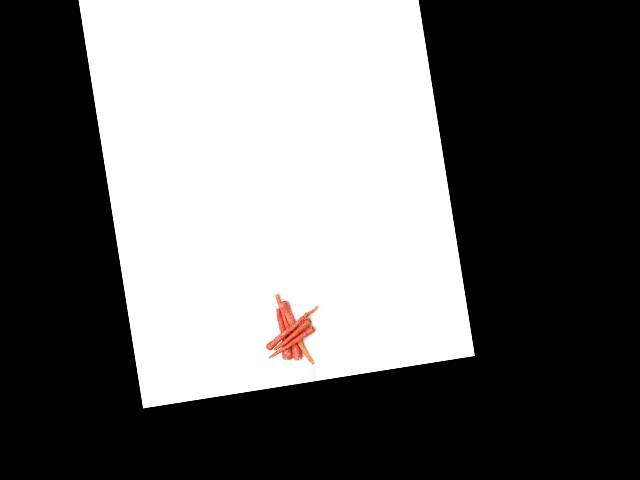carrot: (265, 328, 317, 359)
